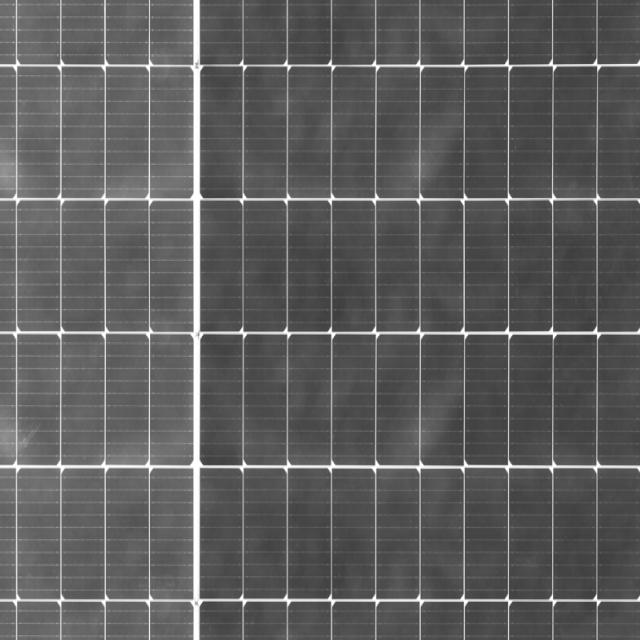CORRECT: (202, 0, 495, 640), (372, 0, 640, 640), (0, 0, 225, 636)
